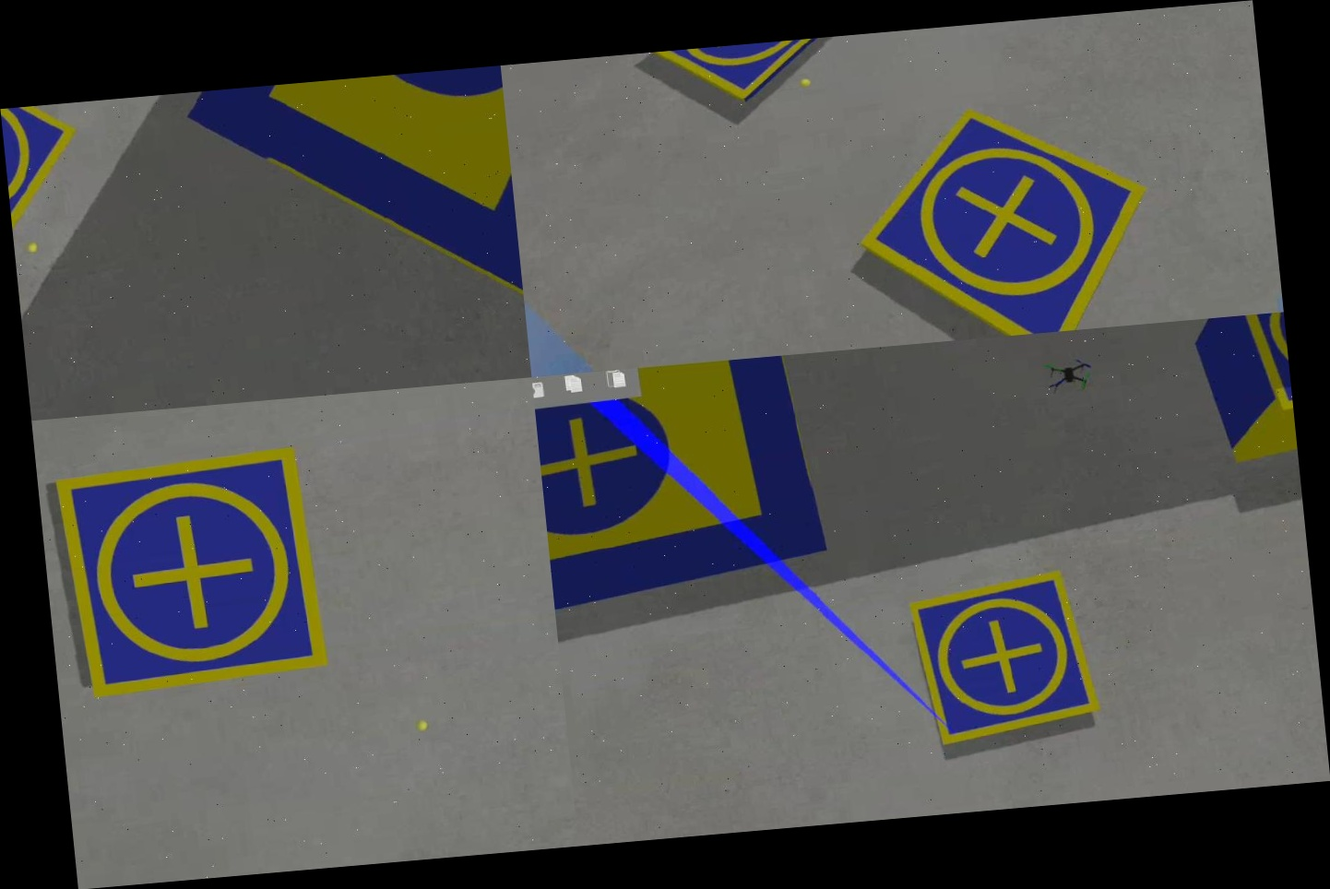large_base: (178, 65, 525, 336), (532, 353, 837, 633)
small_base: (843, 88, 1164, 348), (53, 444, 332, 699), (902, 563, 1108, 753), (635, 35, 861, 114), (0, 102, 96, 271)
